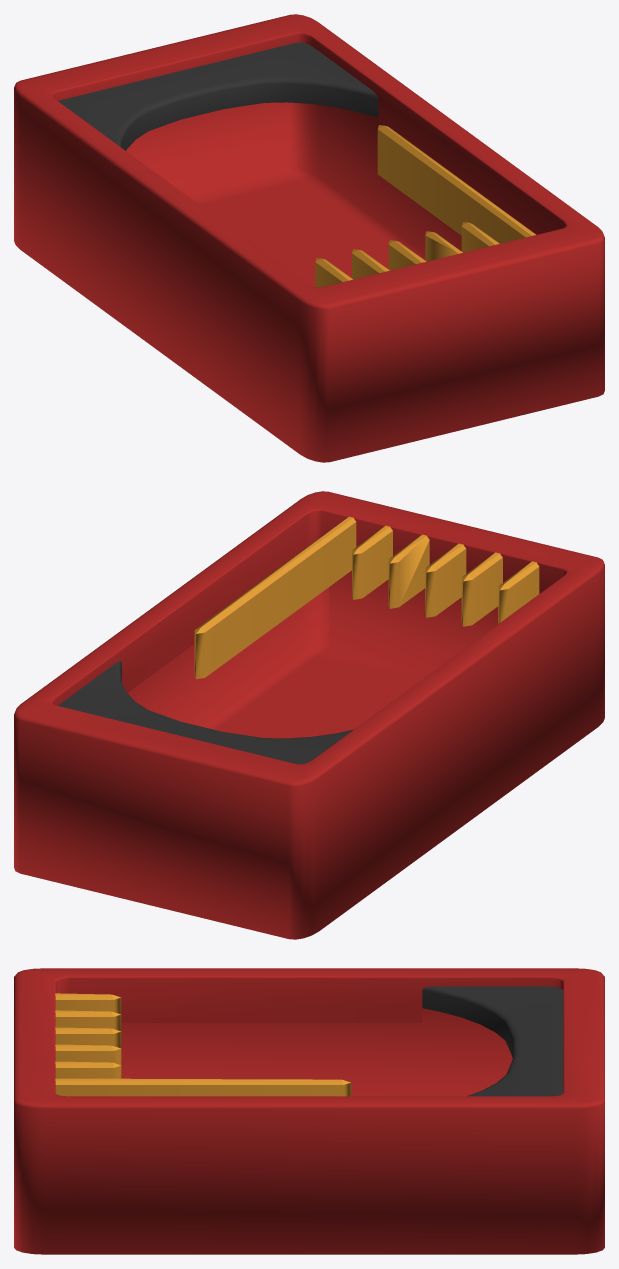
Rendered from pinball_frame.gltf.
3 views of the same model, one above another, from view 1: azimuth 30°, elevation 25°; view 2: azimuth 150°, elevation 25°; view 3: azimuth 270°, elevation 25° (orthographic). The views are drawn at different scales.
Parts seen in each view (by area): view 1: frame, curve, partition; view 2: frame, partition, curve; view 3: frame, partition, curve.
Boxes of the visible parts, bbox=[...] form: frame: bbox=[14, 14, 604, 462]; curve: bbox=[58, 42, 378, 150]; partition: bbox=[315, 125, 535, 287]; frame: bbox=[14, 491, 604, 939]; partition: bbox=[194, 516, 539, 679]; curve: bbox=[58, 661, 353, 764]; frame: bbox=[14, 968, 604, 1254]; partition: bbox=[55, 993, 351, 1096]; curve: bbox=[422, 986, 563, 1096].
Bounding box in the file's own units: 2 × 1 × 3.6.
